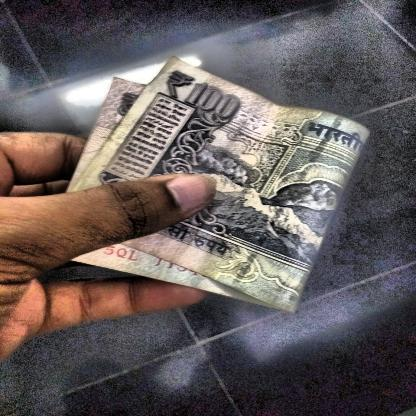Rs100: (154, 65, 246, 124)
